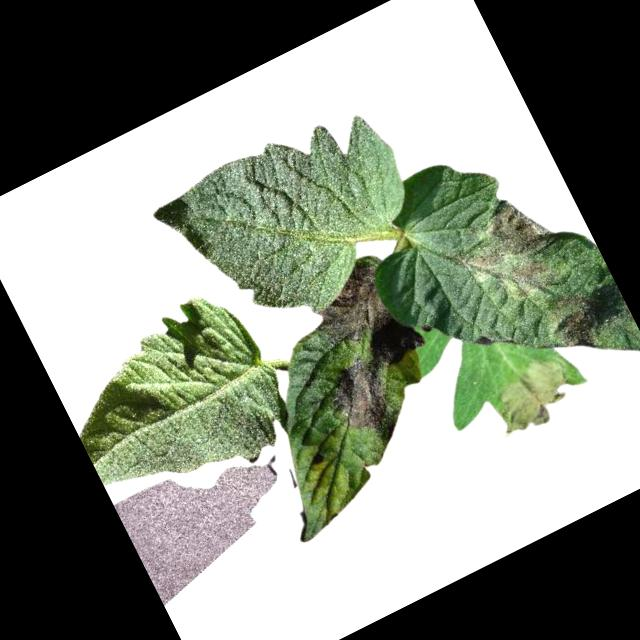Late_blight: (313, 311, 450, 438), (446, 185, 558, 283), (477, 349, 584, 445), (301, 258, 398, 351), (532, 286, 609, 366), (495, 247, 562, 307)
healthy: (146, 93, 442, 359), (45, 275, 306, 525)
